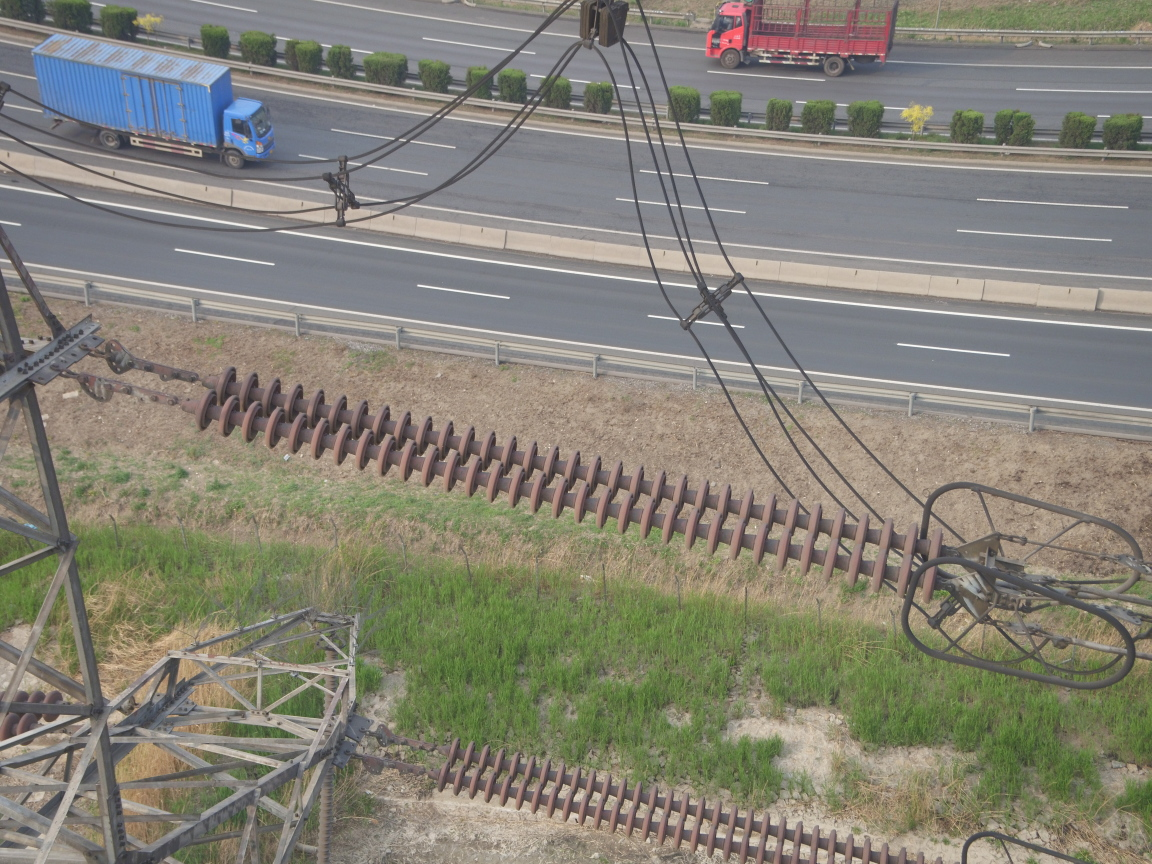insulator: (145, 361, 965, 609), (407, 738, 969, 864), (1, 690, 66, 742)
